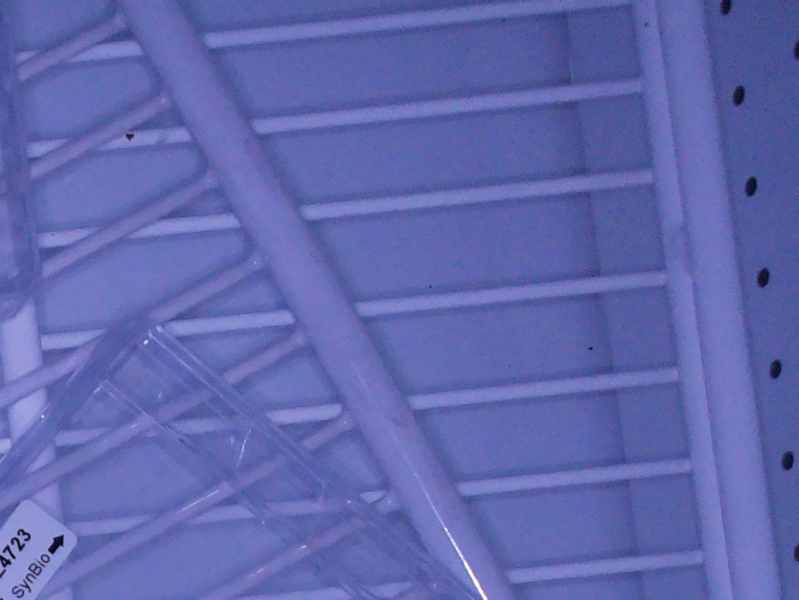plate: (1, 312, 492, 600), (1, 1, 41, 323)
